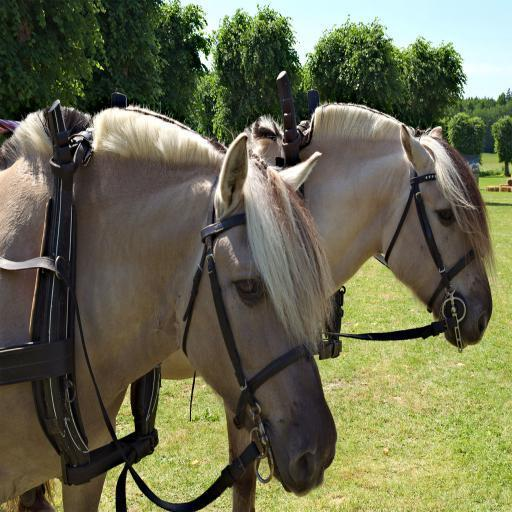horse: (5, 105, 499, 512), (0, 102, 339, 512)
